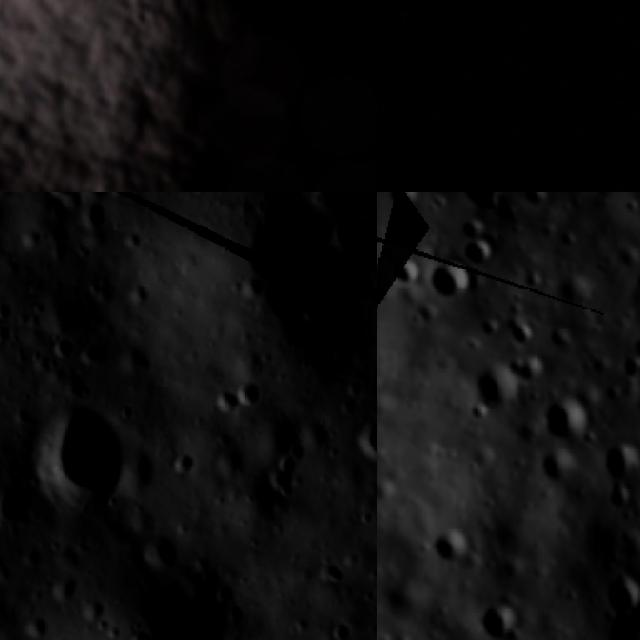crater: (214, 192, 351, 352), (34, 401, 138, 520), (0, 477, 45, 540), (339, 400, 377, 473), (134, 528, 188, 577), (299, 192, 377, 225), (470, 363, 520, 414), (539, 398, 593, 445), (478, 598, 530, 640), (431, 257, 474, 306), (433, 529, 479, 573), (534, 449, 584, 489), (508, 353, 562, 390), (228, 367, 272, 412), (196, 377, 244, 417), (600, 573, 640, 613), (69, 195, 112, 232), (458, 192, 510, 221), (602, 447, 640, 484), (461, 238, 500, 273), (385, 254, 422, 289), (21, 609, 53, 640), (385, 192, 430, 214), (611, 353, 640, 384), (38, 192, 82, 204), (119, 626, 155, 640)
